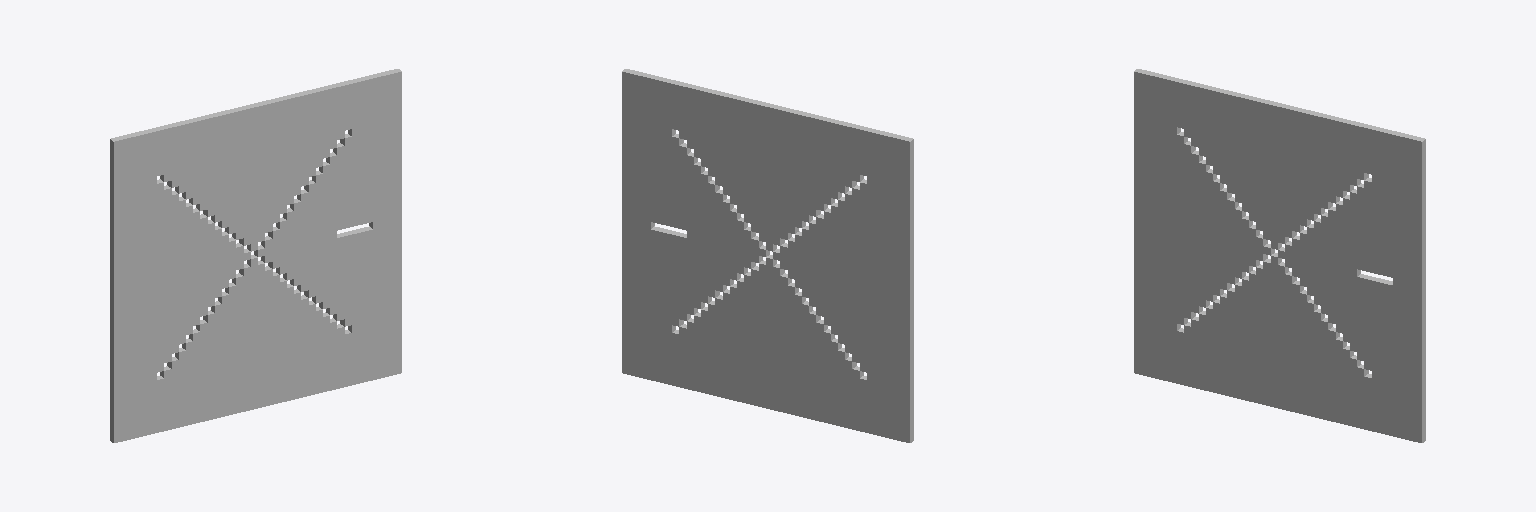
File: X negativo.obj
3 views of the same model, side by side, from view 1: azimuth 30°, elevation 25°; view 2: azimuth 150°, elevation 25°; view 3: azimuth 330°, elevation 25° (orthographic).
Visible parts, largest first — view 1: object 1; view 2: object 1; view 3: object 1.
Part boxes in pixels (x1,y1,x2,y2): object 1: (110, 69, 401, 442); object 1: (622, 69, 913, 442); object 1: (1134, 69, 1425, 442).
Size of the model in its own units: 4 by 4 by 0.1.